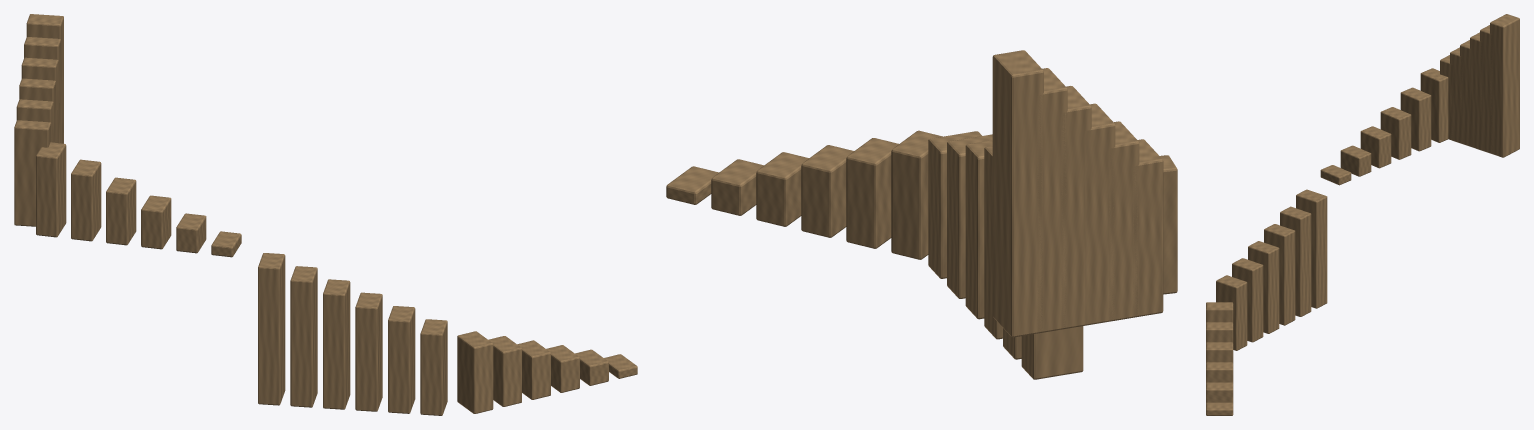
File: Stair_Footings.fbx
The picture shows the model from 3 angles, left to right: view 1: azimuth 30°, elevation 25°; view 2: azimuth 150°, elevation 25°; view 3: azimuth 270°, elevation 25°; orthographic projection. The views are drawn at different scales.
Visible parts, largest first — view 1: Stair_Footings; view 2: Stair_Footings; view 3: Stair_Footings.
Boxes of the visible parts, x1=… form: Stair_Footings: x1=14, y1=14, x2=637, y2=415; Stair_Footings: x1=666, y1=50, x2=1177, y2=379; Stair_Footings: x1=1206, y1=14, x2=1519, y2=415.
Size of the model in its own units: 3290 by 2481 by 2126.
